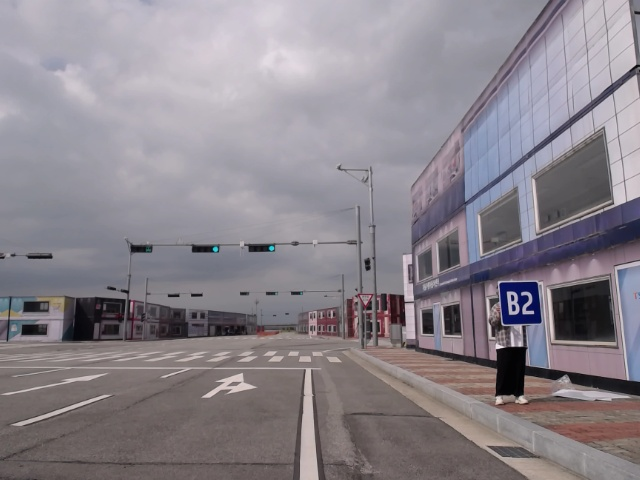delivery_b2: (497, 278, 544, 326)
straight_green_4: (246, 242, 279, 254), (190, 243, 220, 254), (290, 290, 306, 297), (264, 291, 280, 297)
